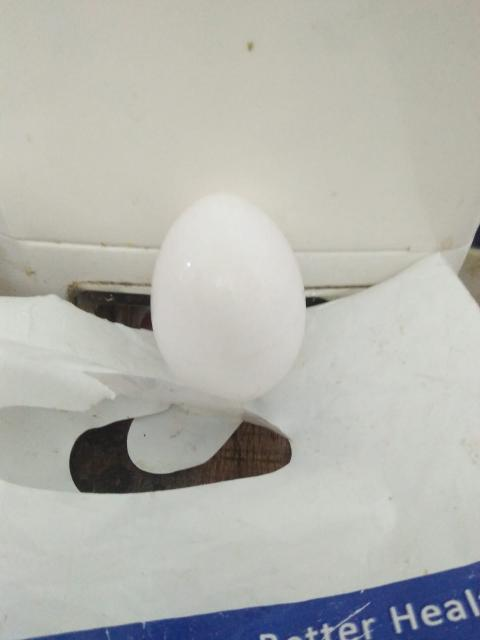Sano: (149, 192, 307, 402)
